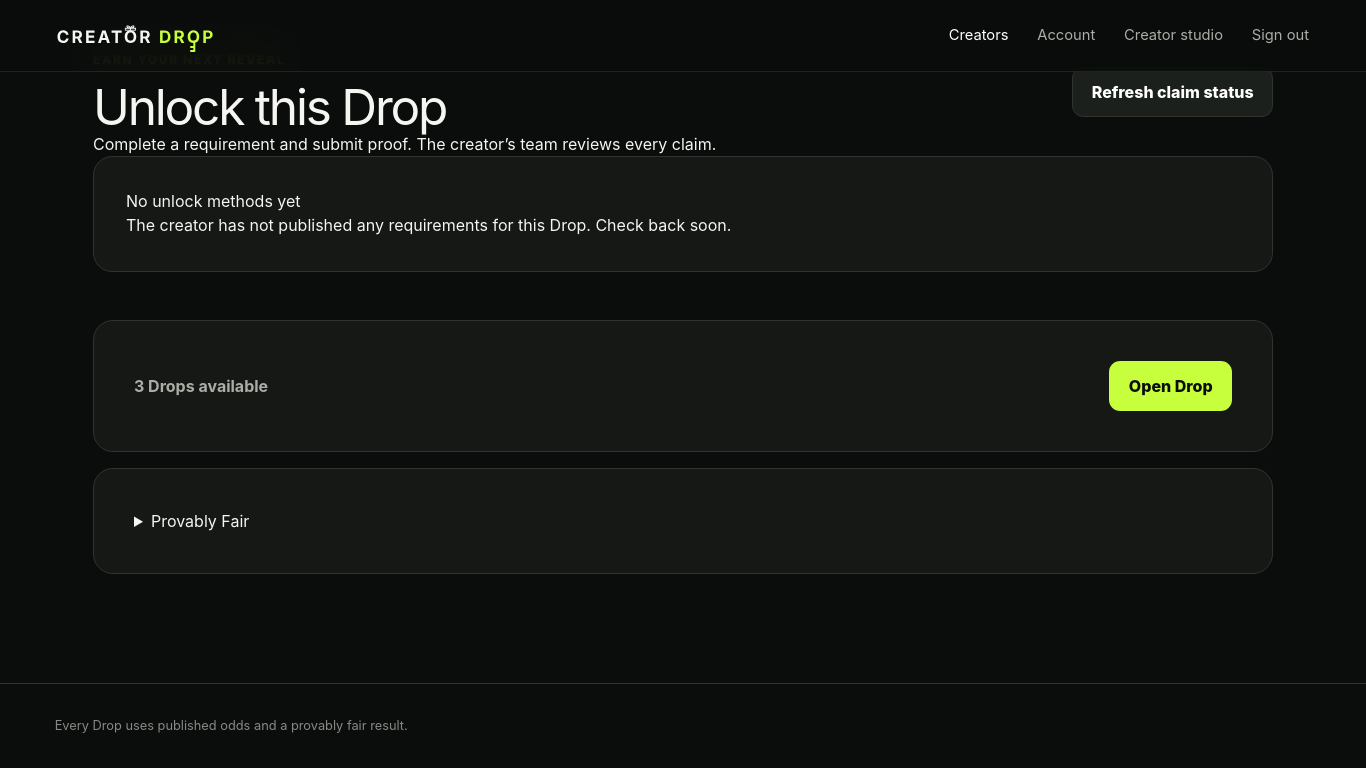
R1C active fan product › fails first-use fairness setup without submitting or retaining an opening command
(page scrolled)
Click the button "Open Drop" at (1171, 386), box [1109,361,1232,411]
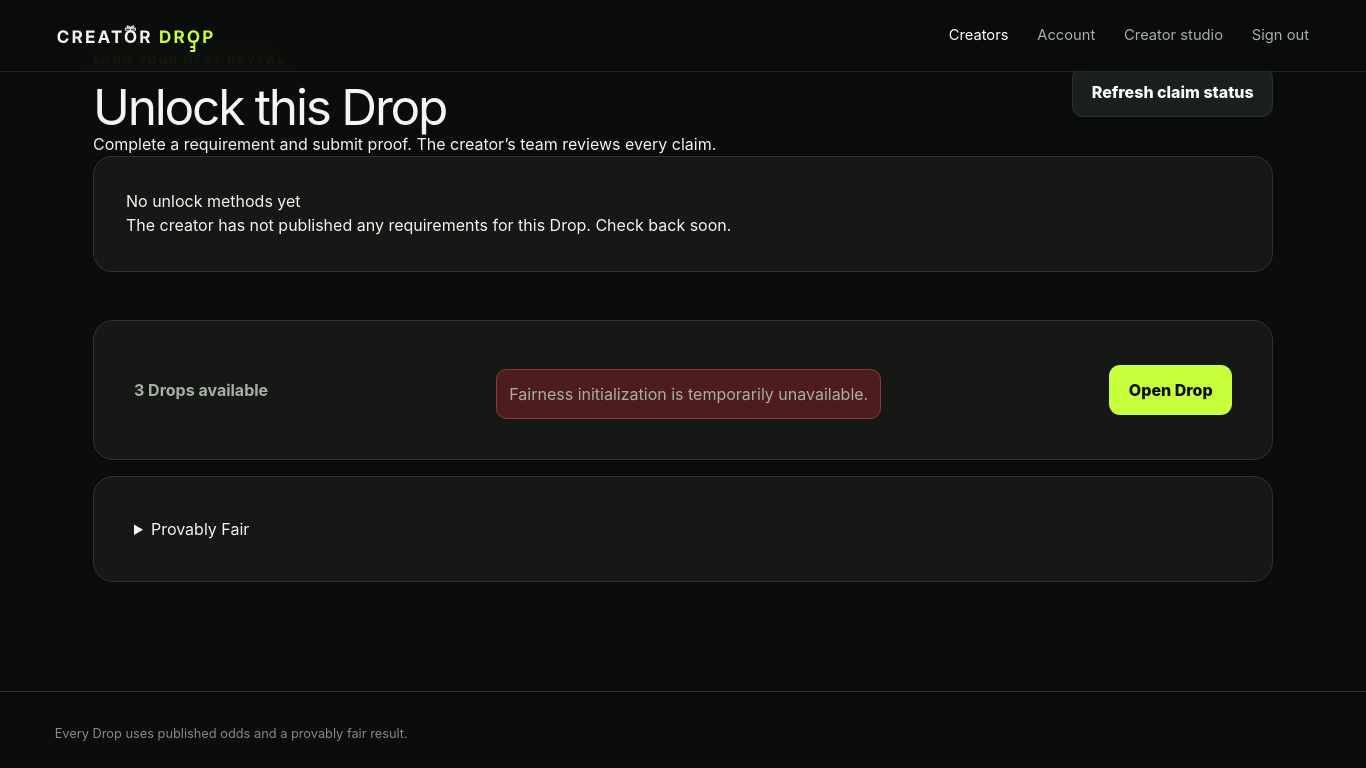
Expected: the message reads "Fairness initialization is temporarily unavailable.", [509,384,868,404]
